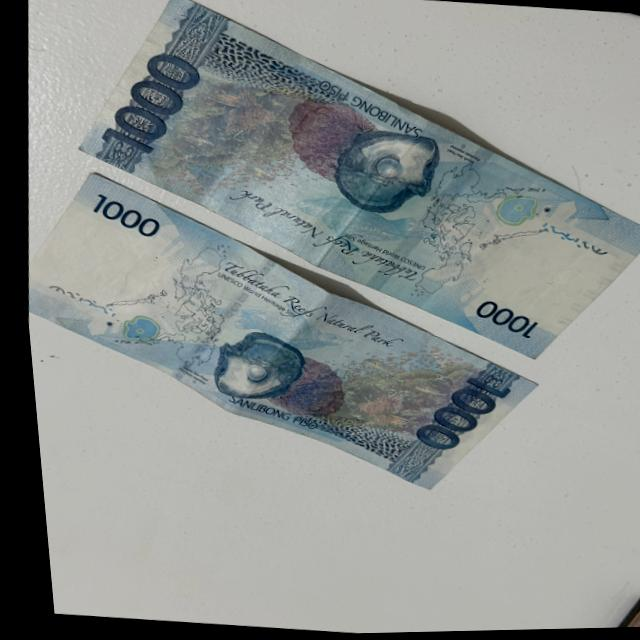1000_pearl: (321, 122, 440, 227), (205, 332, 302, 407)
1000_pearl_watermark: (484, 190, 543, 231), (104, 308, 153, 345)
